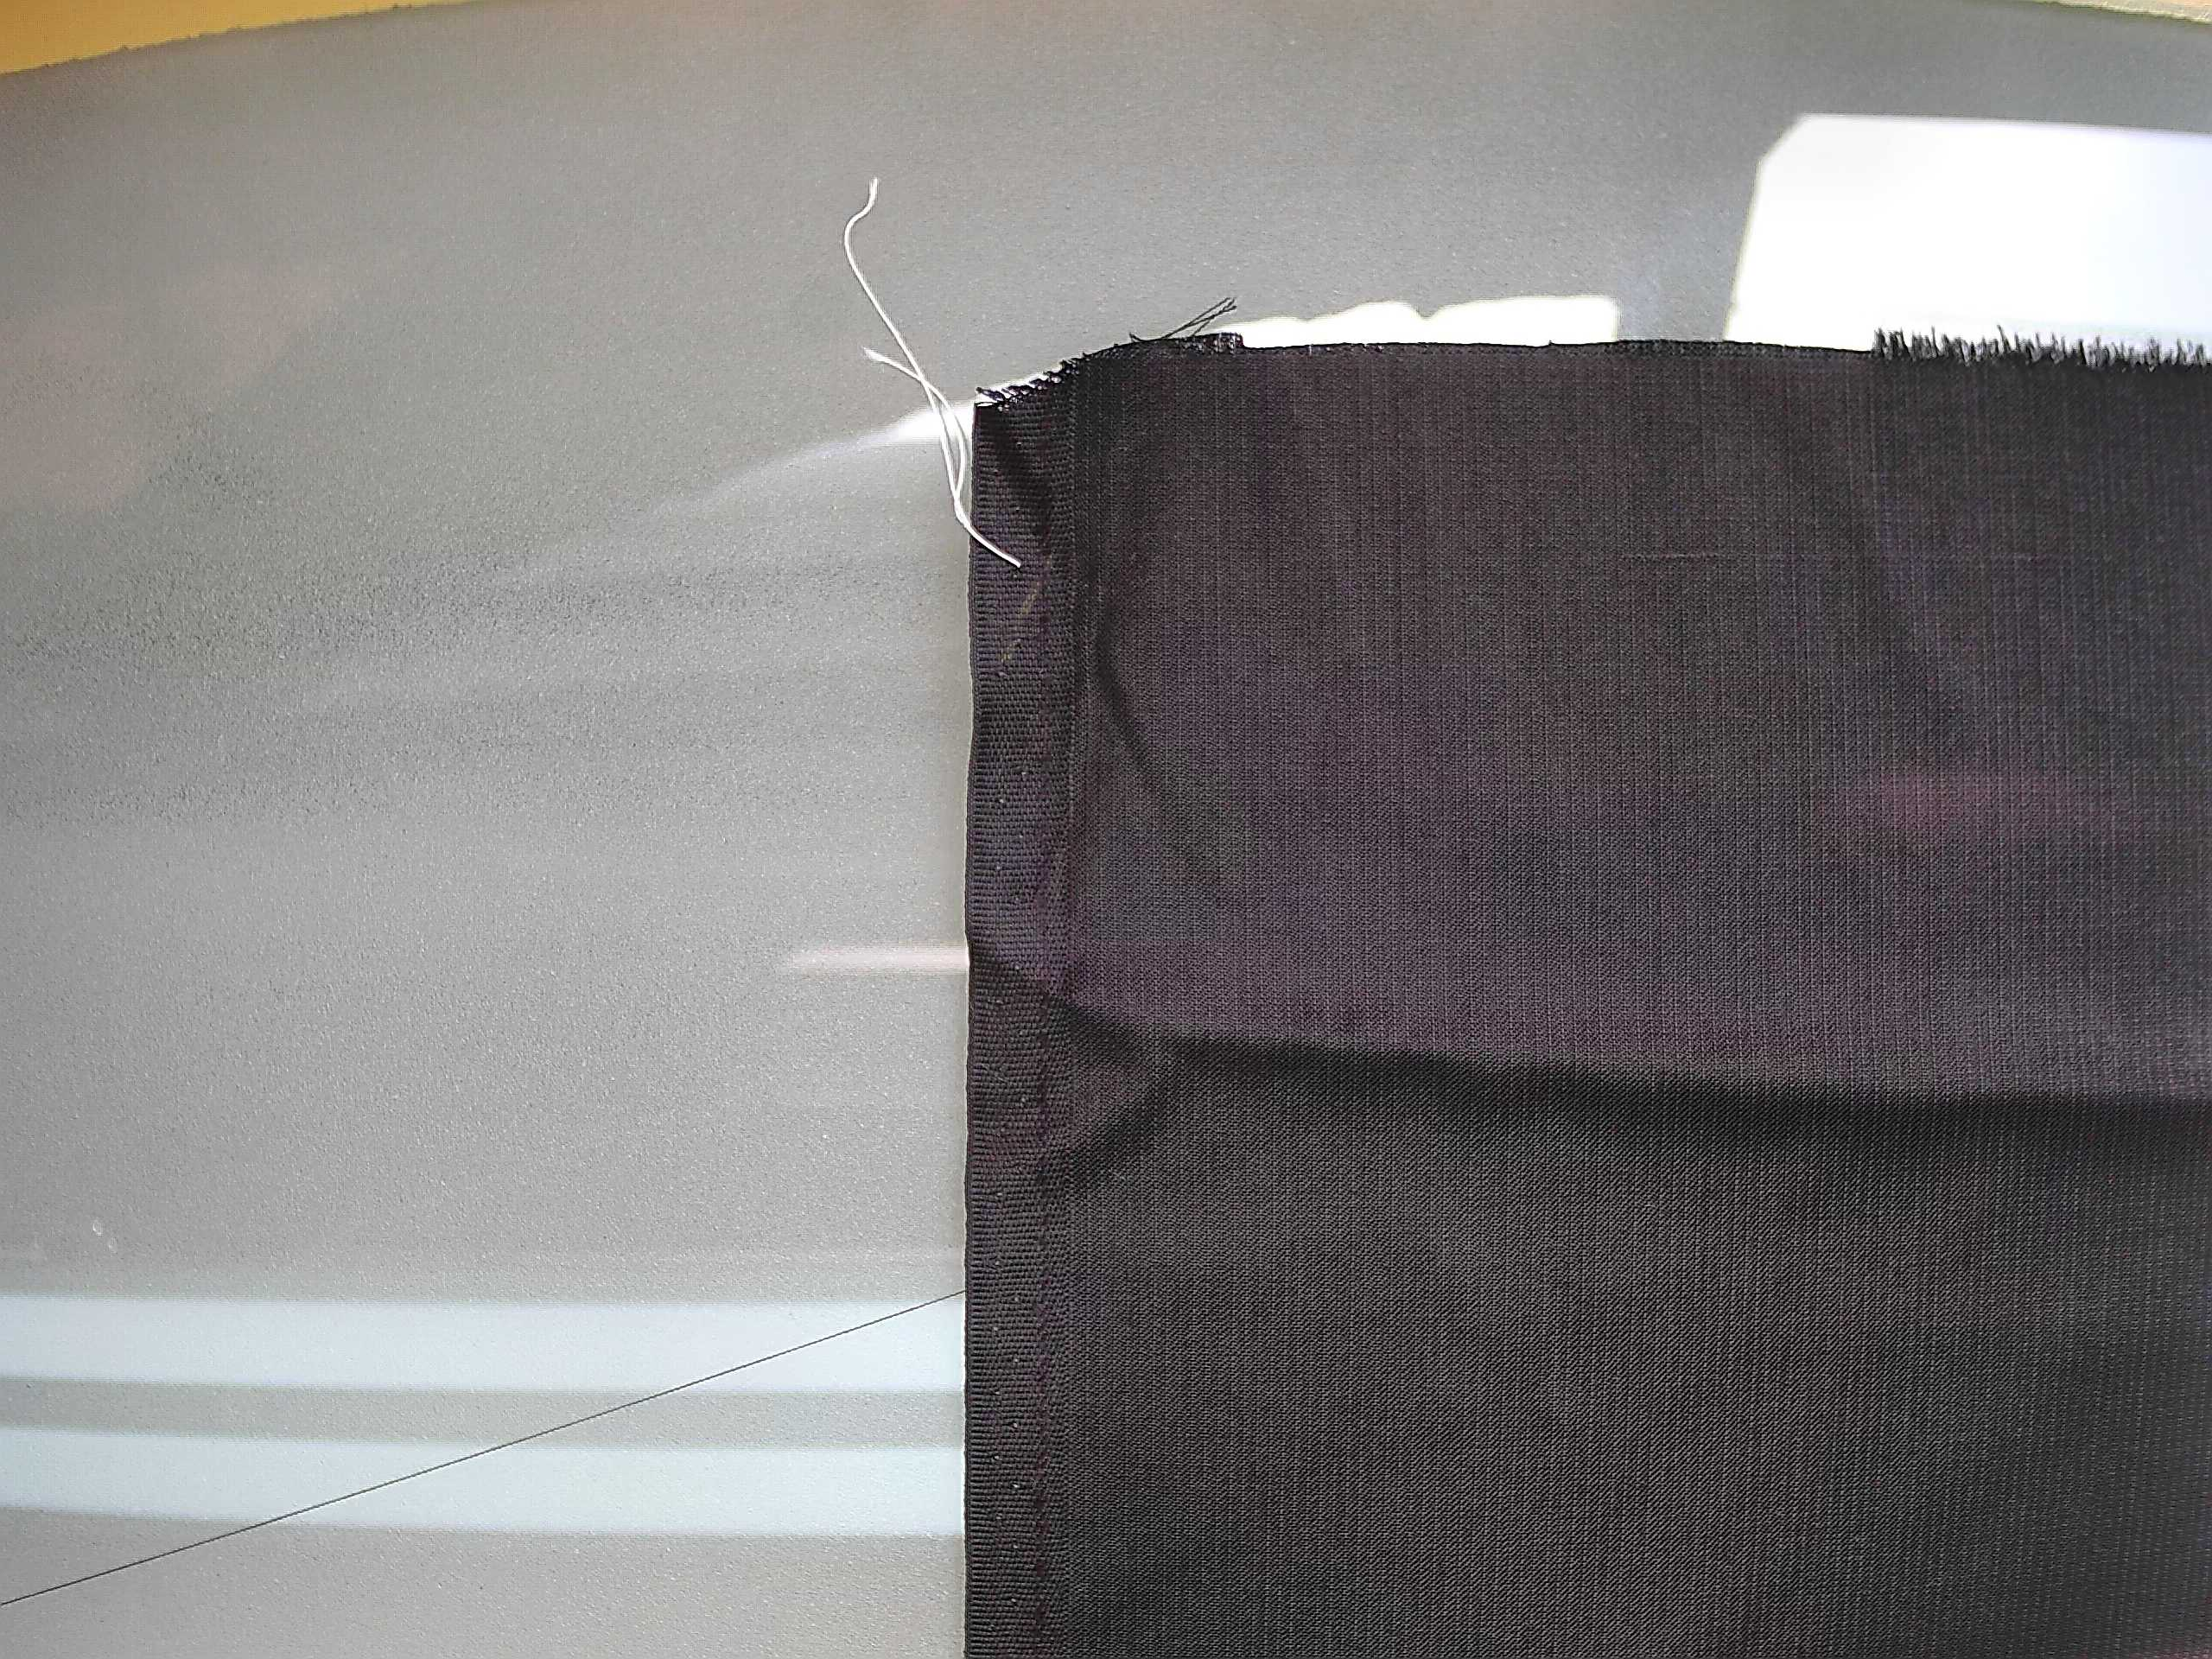others: (1581, 523, 2111, 587)
